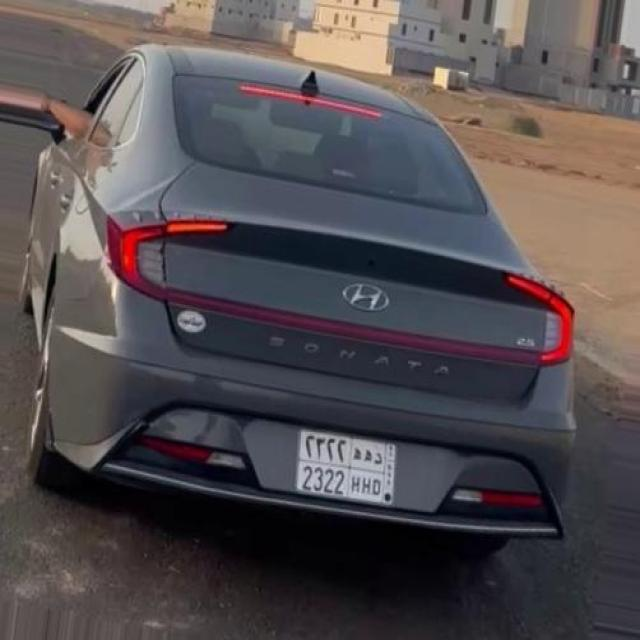Car-plate: (287, 397, 405, 515)
